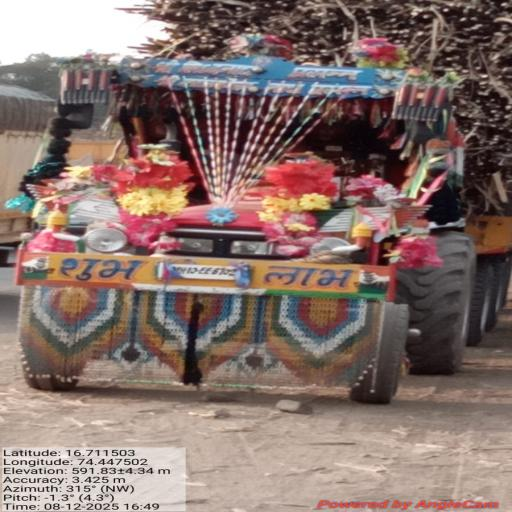number_plate: (156, 261, 250, 284)
